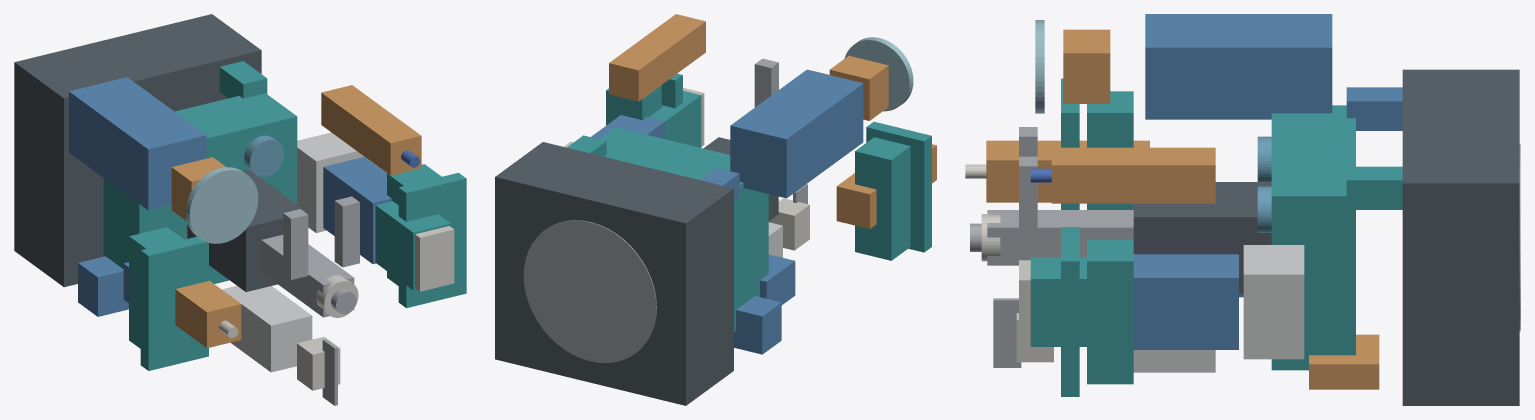
File: dranmar_tumor_resection_tool_cavity_scan.glb
The picture shows the model from 3 angles, left to right: view 1: azimuth 30°, elevation 25°; view 2: azimuth 150°, elevation 25°; view 3: azimuth 270°, elevation 25°; orthographic projection. The views are drawn at different scales.
Visible parts, largest first — view 1: Mount_MountBody, BagDeployer_BagDeployerBody, SensorTurret_SensorTurretBody, LeftTraction_LeftPad, MarginMarker_MarginMarkerBody, ScissorCarriage_ScissorCarriageBody, RightTraction_RightPad, AspiratorCarriage_AspiratorCarriageBody, BagDeployer_BagRing, UltrasoundPitch_UltrasoundPitchBody, RamanProbe_RamanProbeBody, UltrasoundCompliance_UltrasoundComplianceBody (+15 smaller); view 2: Mount_MountBody, Mount_MountRing, BagDeployer_BagDeployerBody, SensorTurret_SensorTurretBody, LeftTraction_LeftTractionBody, MarginMarker_MarginMarkerBody, LeftTraction_LeftPad, OCTScannerX_OCTScannerXBody, BagDeployer_BagRing, BagClosure_BagClosureBody, RamanProbe_RamanProbeBody, UltrasoundCompliance_UltrasoundComplianceBody (+10 smaller); view 3: Mount_MountBody, BagDeployer_BagDeployerBody, SensorTurret_SensorTurretBody, UltrasoundPitch_UltrasoundPitchBody, MarginMarker_MarginMarkerBody, AspiratorCarriage_AspiratorCarriageBody, UltrasoundCarriage_UltrasoundCarriageBody, RightTraction_RightTractionBody, AspiratorRotor_AspiratorRotorBody, BagClosure_BagClosureBody, UltrasoundCompliance_UltrasoundComplianceBody, RightTraction_RightPad (+16 smaller).
Boxes of the visible parts, bbox=[...] form: Mount_MountBody: bbox=[14, 14, 261, 287]; BagDeployer_BagDeployerBody: bbox=[69, 77, 206, 210]; SensorTurret_SensorTurretBody: bbox=[103, 93, 297, 283]; LeftTraction_LeftPad: bbox=[140, 236, 208, 370]; MarginMarker_MarginMarkerBody: bbox=[321, 85, 421, 175]; ScissorCarriage_ScissorCarriageBody: bbox=[222, 286, 312, 372]; RightTraction_RightPad: bbox=[398, 172, 466, 308]; AspiratorCarriage_AspiratorCarriageBody: bbox=[187, 169, 307, 291]; BagDeployer_BagRing: bbox=[185, 167, 258, 243]; UltrasoundPitch_UltrasoundPitchBody: bbox=[323, 157, 391, 263]; RamanProbe_RamanProbeBody: bbox=[175, 280, 241, 348]; UltrasoundCompliance_UltrasoundComplianceBody: bbox=[375, 201, 450, 290]; Mount_MountBody: bbox=[495, 142, 733, 405]; Mount_MountRing: bbox=[523, 220, 656, 362]; BagDeployer_BagDeployerBody: bbox=[730, 69, 863, 198]; SensorTurret_SensorTurretBody: bbox=[599, 127, 768, 331]; LeftTraction_LeftTractionBody: bbox=[855, 137, 910, 260]; MarginMarker_MarginMarkerBody: bbox=[609, 14, 705, 101]; LeftTraction_LeftPad: bbox=[866, 121, 931, 252]; OCTScannerX_OCTScannerXBody: bbox=[734, 296, 781, 354]; BagDeployer_BagRing: bbox=[844, 37, 913, 111]; BagClosure_BagClosureBody: bbox=[829, 55, 888, 120]; RamanProbe_RamanProbeBody: bbox=[836, 144, 936, 228]; UltrasoundCompliance_UltrasoundComplianceBody: bbox=[649, 90, 701, 147]; Mount_MountBody: bbox=[1402, 69, 1519, 405]; BagDeployer_BagDeployerBody: bbox=[1145, 14, 1332, 119]; SensorTurret_SensorTurretBody: bbox=[1271, 105, 1355, 370]; UltrasoundPitch_UltrasoundPitchBody: bbox=[1133, 254, 1238, 349]; MarginMarker_MarginMarkerBody: bbox=[1051, 147, 1215, 203]; AspiratorCarriage_AspiratorCarriageBody: bbox=[1133, 182, 1271, 293]; UltrasoundCarriage_UltrasoundCarriageBody: bbox=[1243, 245, 1304, 359]; RightTraction_RightTractionBody: bbox=[1087, 239, 1133, 384]; AspiratorRotor_AspiratorRotorBody: bbox=[987, 210, 1133, 265]; BagClosure_BagClosureBody: bbox=[1063, 29, 1110, 103]; UltrasoundCompliance_UltrasoundComplianceBody: bbox=[1030, 257, 1086, 346]; RightTraction_RightPad: bbox=[1061, 227, 1079, 396].
Size of the model in its own units: 0.185 by 0.136 by 0.2375.
